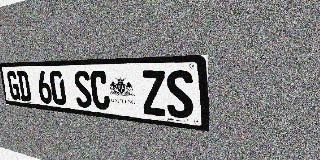0: (49, 71, 67, 106)
6: (36, 71, 53, 104)
C: (89, 71, 111, 110)
D: (16, 71, 32, 102)
G: (6, 71, 21, 101)
S: (165, 70, 194, 120), (73, 71, 93, 109)
Z: (141, 70, 167, 117)
